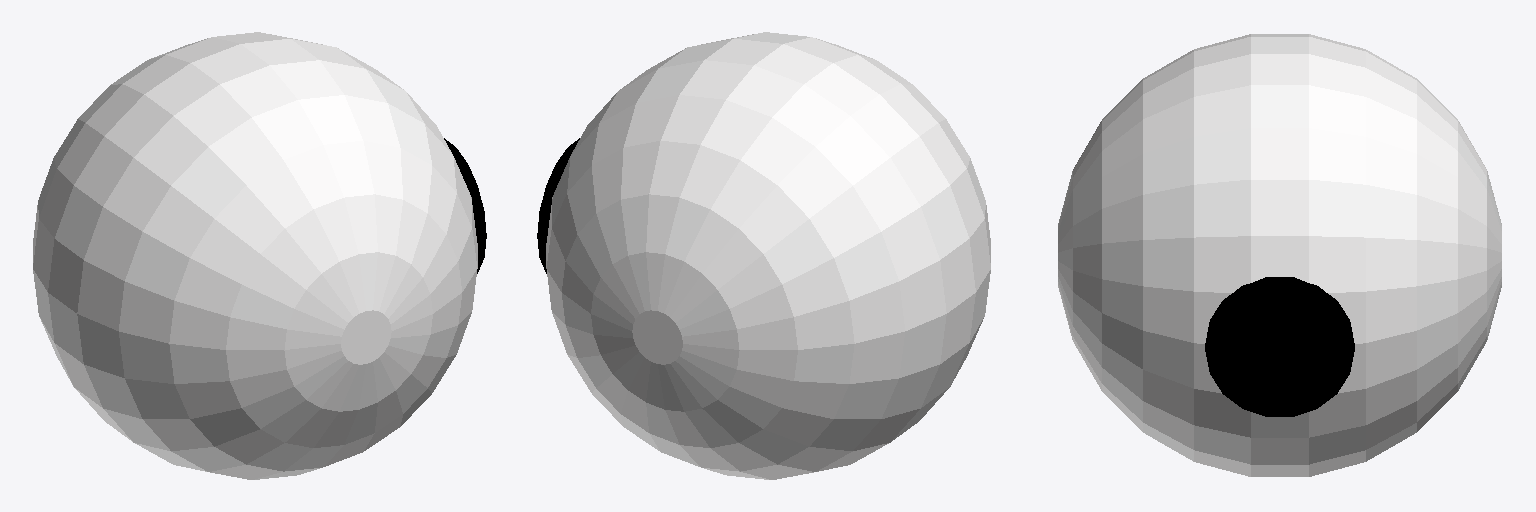
File: stalker_eye.obj
3 views of the same model, side by side, from view 1: azimuth 30°, elevation 25°; view 2: azimuth 150°, elevation 25°; view 3: azimuth 270°, elevation 25° (orthographic).
Parts seen in each view (by area): view 1: unnamed_object1; view 2: unnamed_object1; view 3: unnamed_object1.
Boxes of the visible parts, <box> form: unnamed_object1: <box>33,32,486,479</box>; unnamed_object1: <box>537,32,990,479</box>; unnamed_object1: <box>1058,34,1501,476</box>.
Bounding box in the file's own units: 8.96 × 8.92 × 8.92.